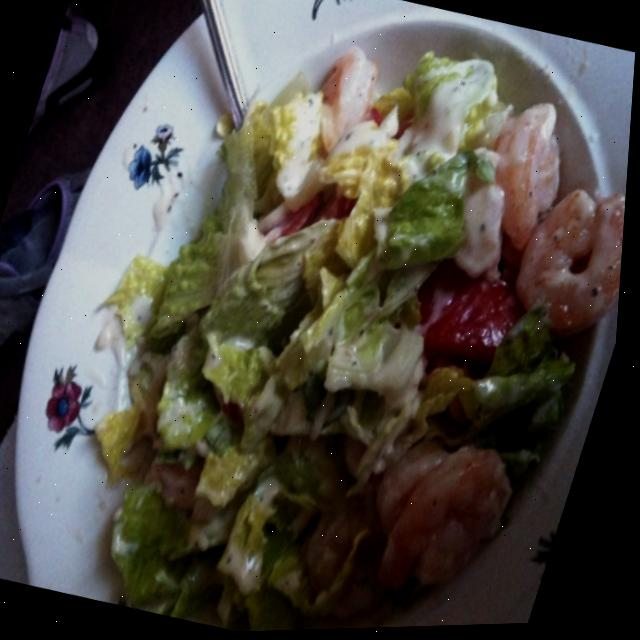蔬菜料理: (62, 0, 640, 638)
